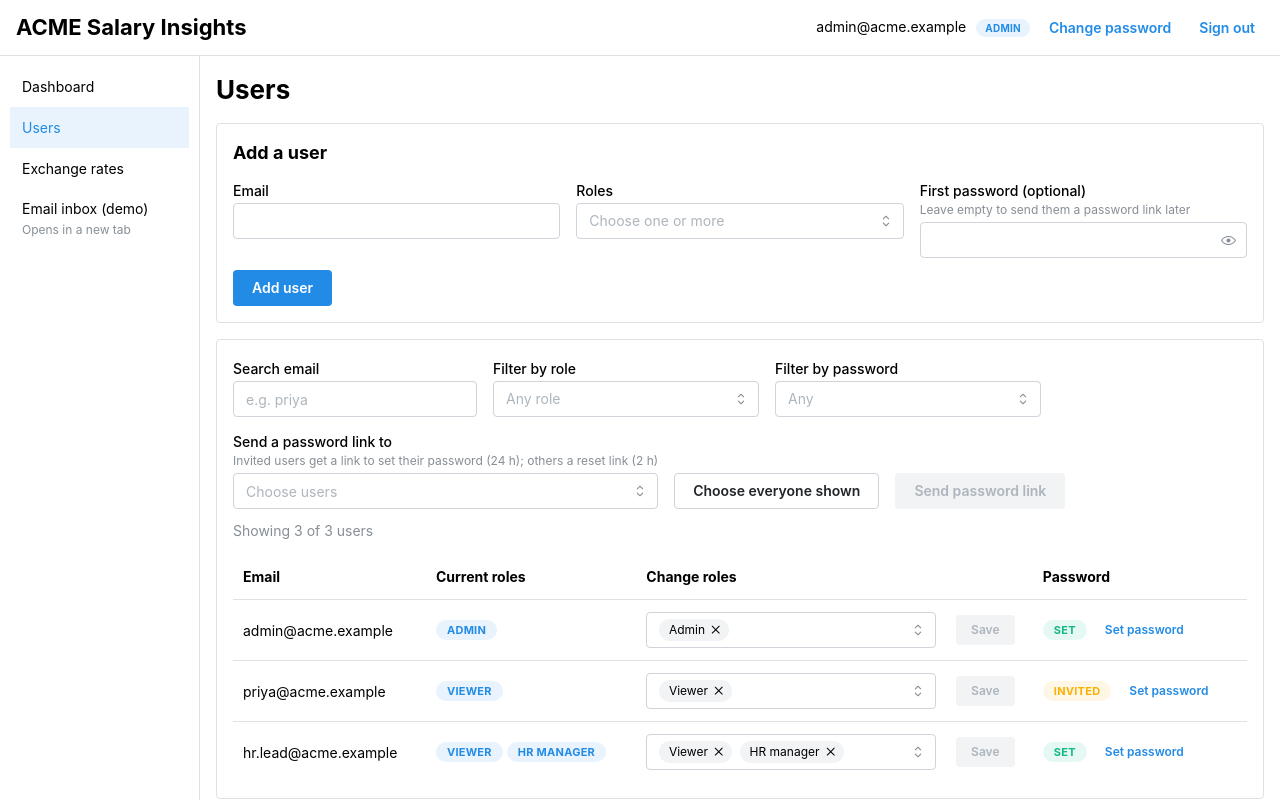
Scenario: Users (admin) › shows a failure that is not about one field, for adding and for saving roles
This screenshot has width=1280, height=800.
Click the button "Add user" at (283, 288), box [233,270,332,306]
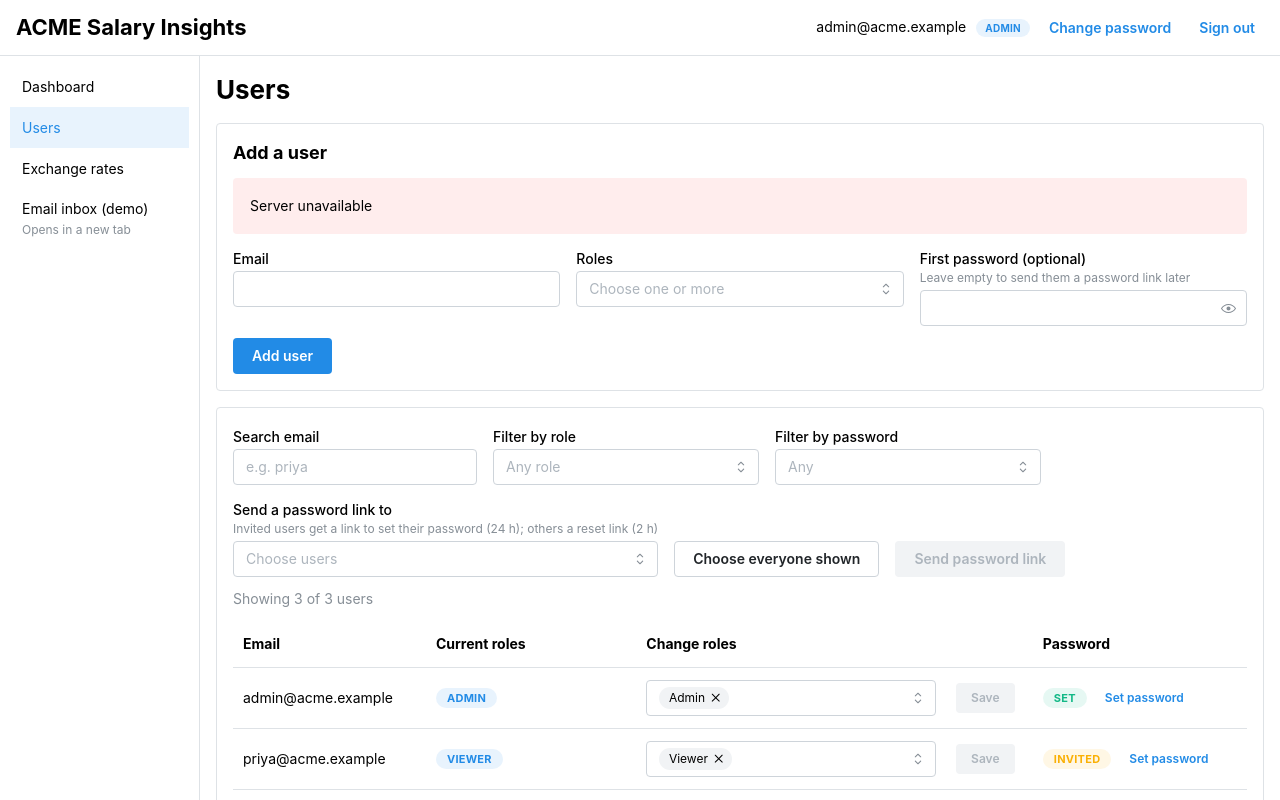
expect the message reads "Server unavailable": met, box [250,197,372,214]
Click the field named "Roles for priya@acme.example" at (696, 758), box [659,748,732,770]
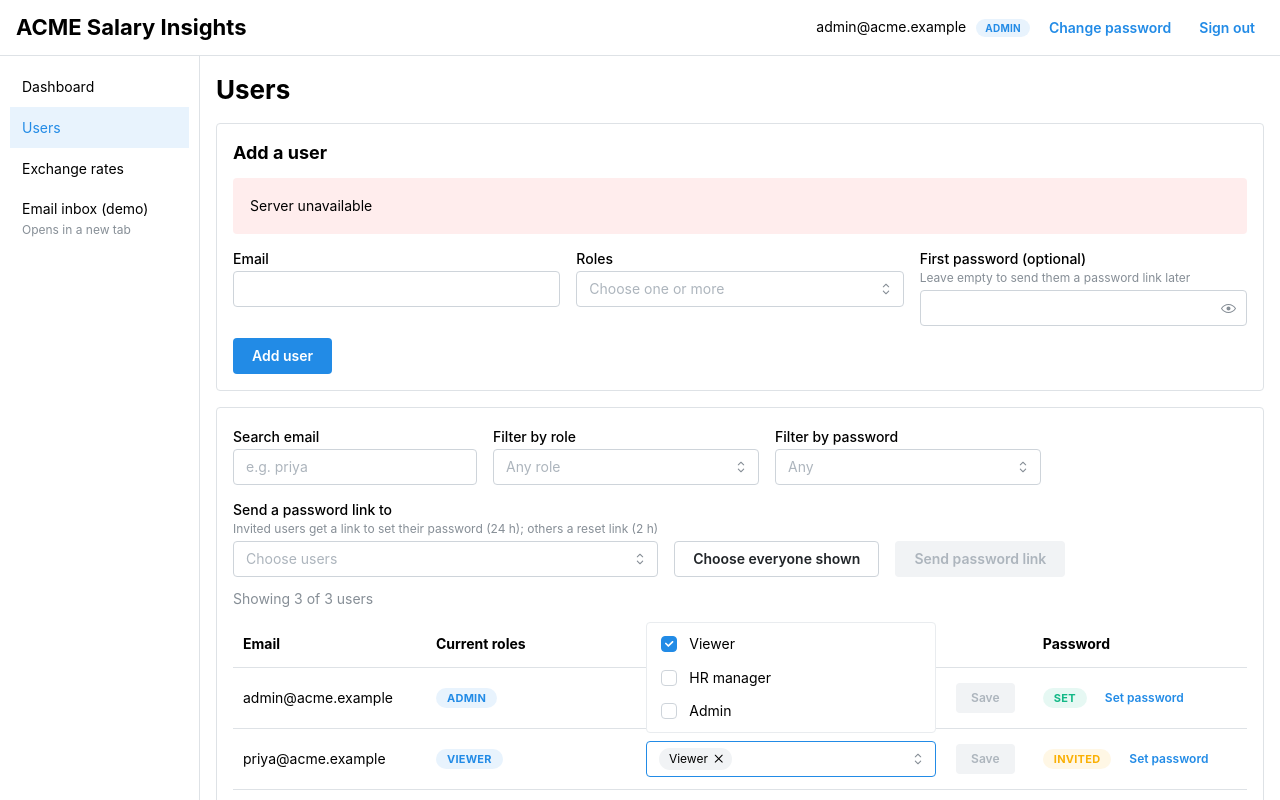
Click the option "Admin" at (696, 711), box [661,702,732,719]
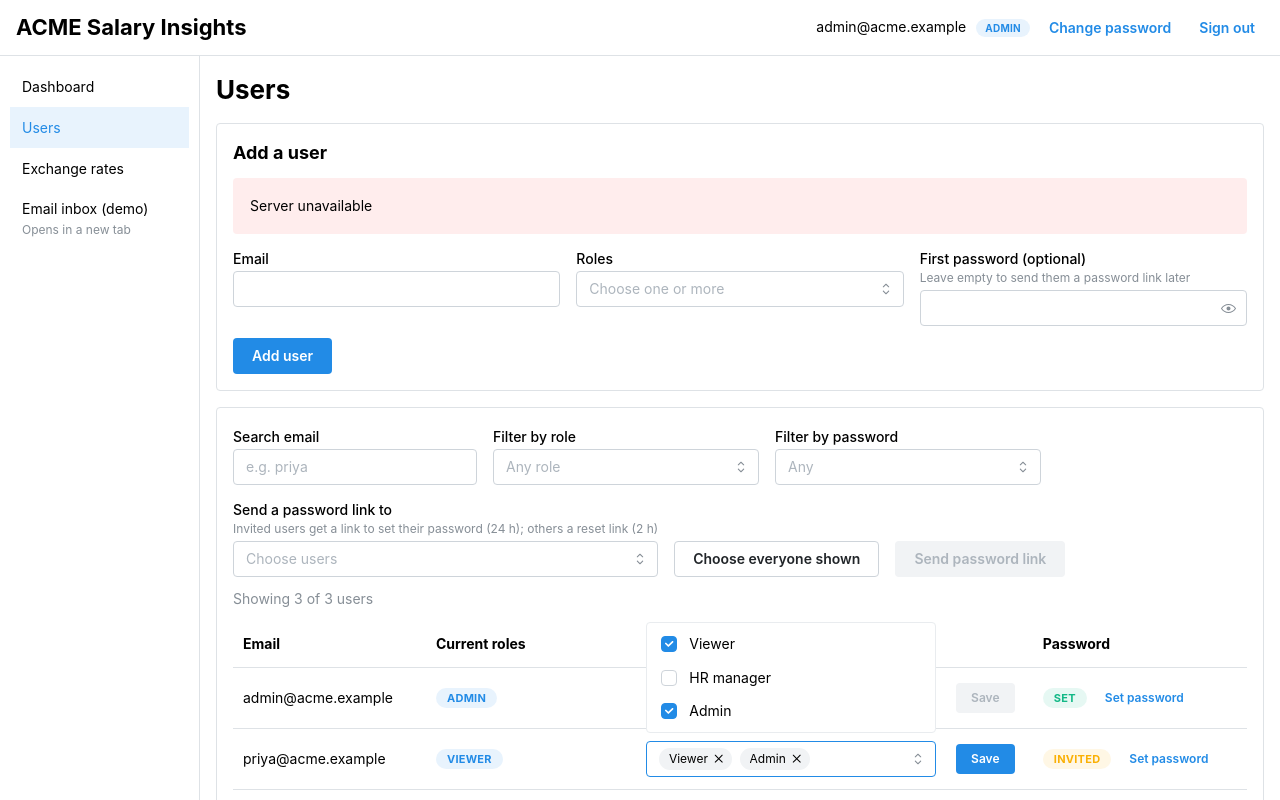
Press Escape
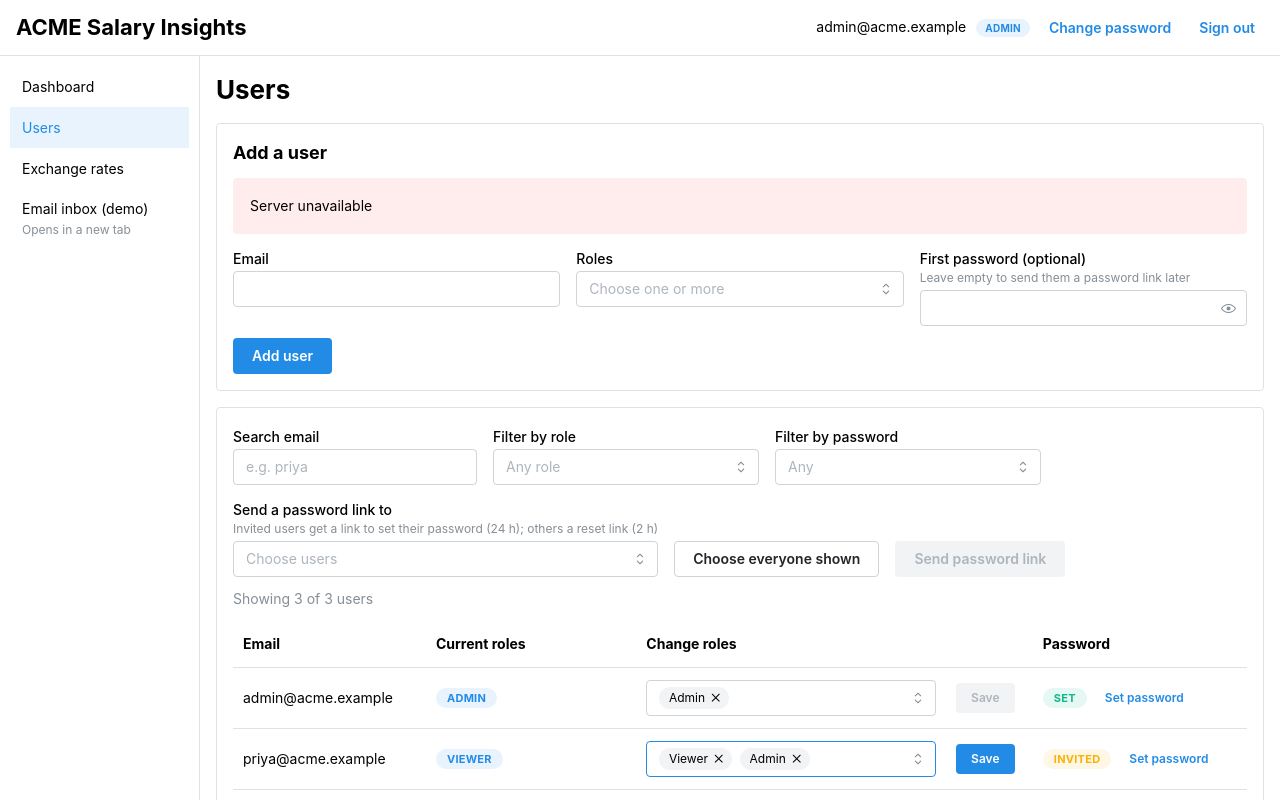
Click the button "Save" in the row of "priya@acme.example" at (985, 759), box [956,744,1014,774]
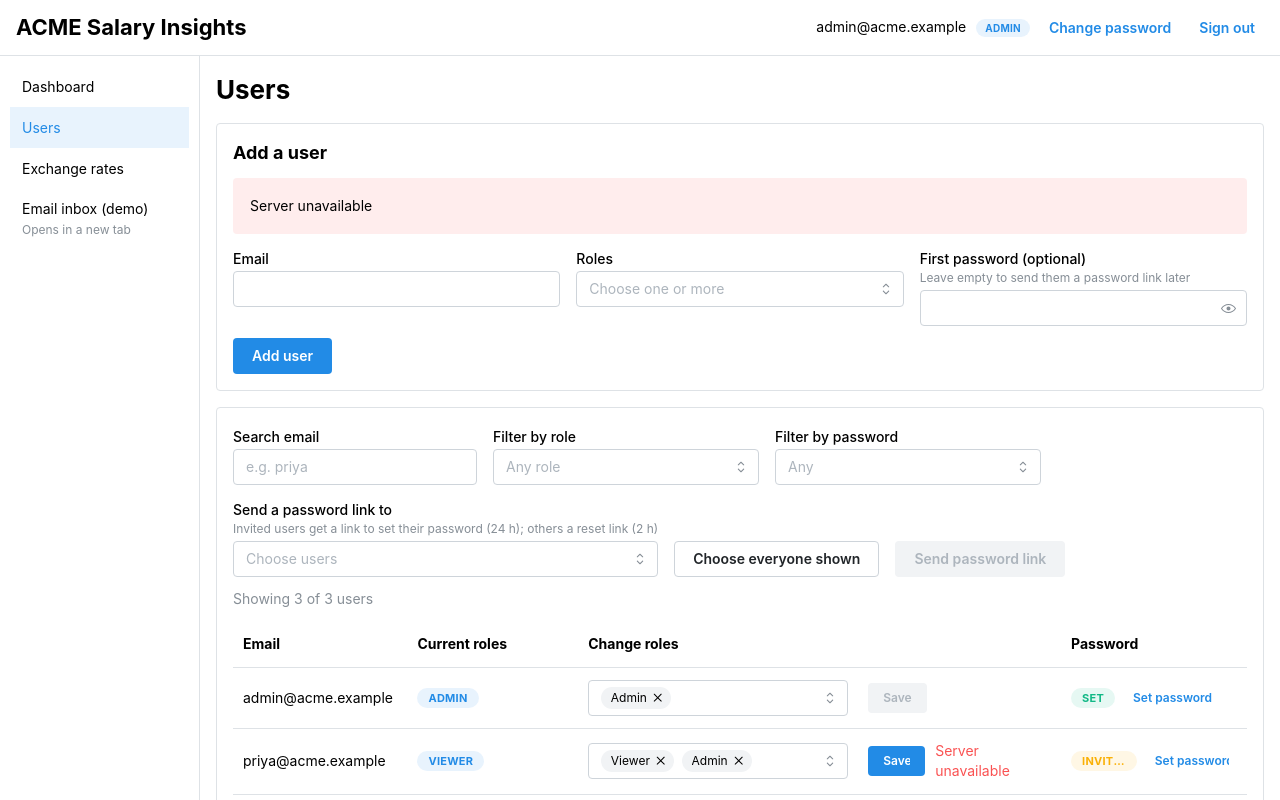
expect the text "Server unavailable" in the row of "priya@acme.example" is shown: met, box [935,742,1010,779]
